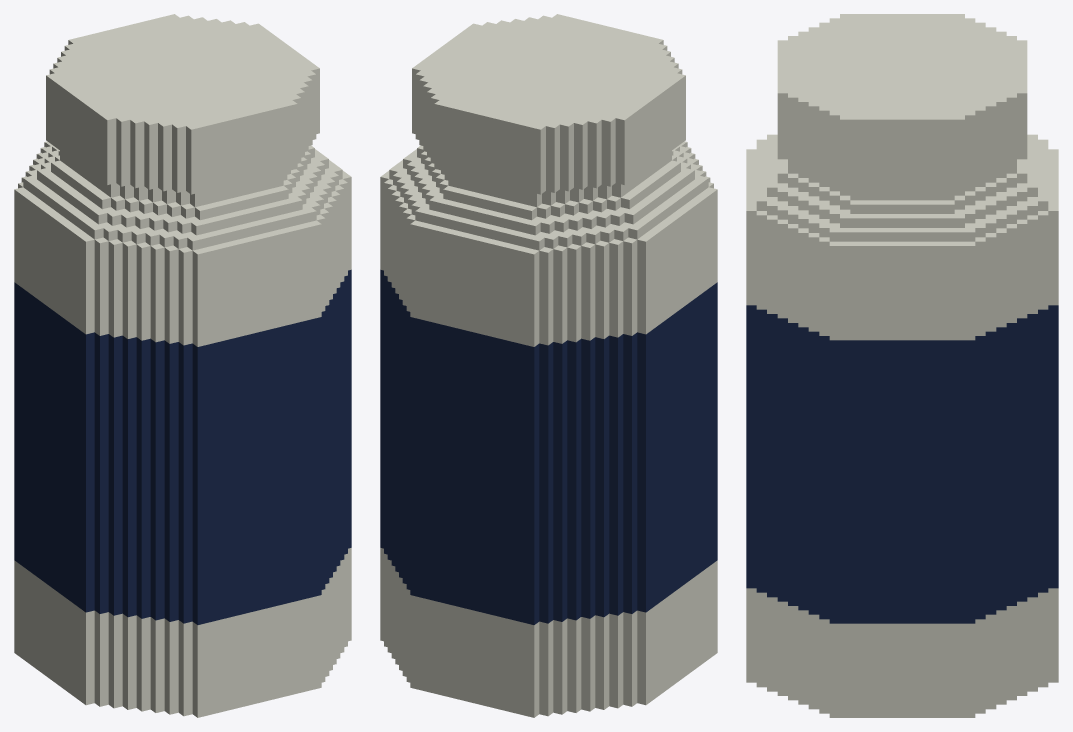
Rendered from calcium_tablets.glb.
The picture shows the model from 3 angles, left to right: view 1: azimuth 30°, elevation 25°; view 2: azimuth 150°, elevation 25°; view 3: azimuth 270°, elevation 25°; orthographic projection.
Visible parts, largest first — view 1: calcium_tablets:vessel; view 2: calcium_tablets:vessel; view 3: calcium_tablets:vessel.
Part boxes in pixels (box(x1,y1,x2,y2)): calcium_tablets:vessel: box(14, 14, 351, 717); calcium_tablets:vessel: box(380, 14, 717, 717); calcium_tablets:vessel: box(746, 14, 1058, 717).
Size of the model in its own units: 0.06 by 0.124 by 0.06.
